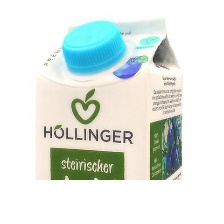carton: (32, 12, 184, 179)
